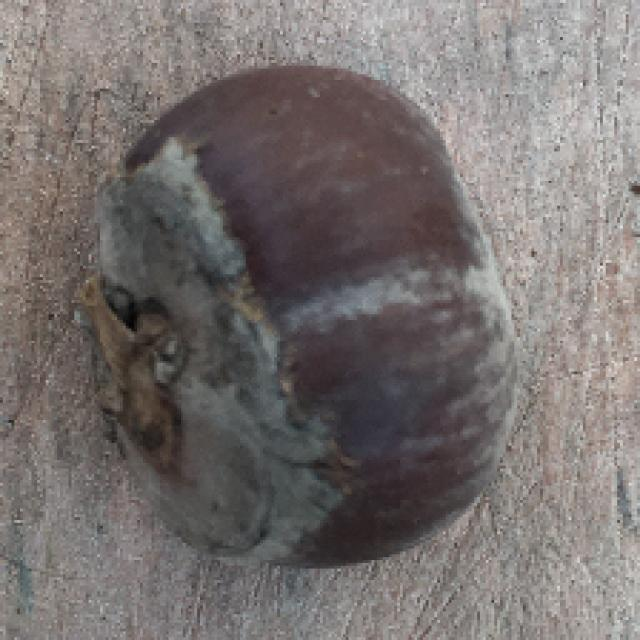damagedHazelnut: (78, 49, 526, 588)
